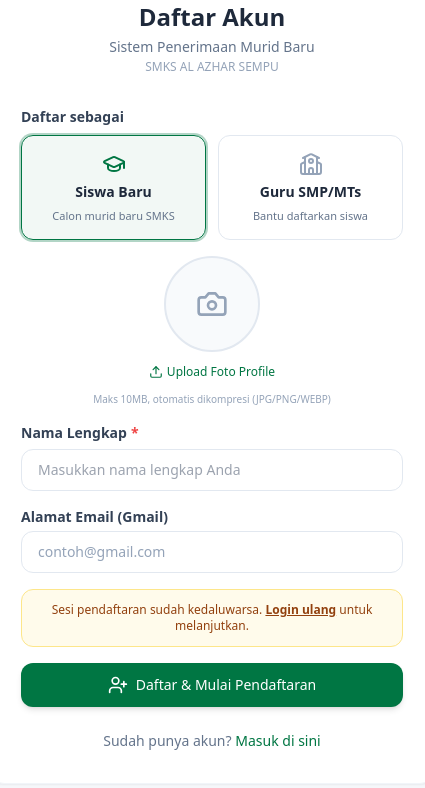
Scenario: RegisterPage - status sesi › menampilkan banner kedaluwarsa dan memblokir submit
(page scrolled)
Check: the text "sudah kedaluwarsa" is shown, box [52,601,262,618]
Click the button "Daftar & Mulai Pendaftaran": (212, 685) [21,663,403,707]
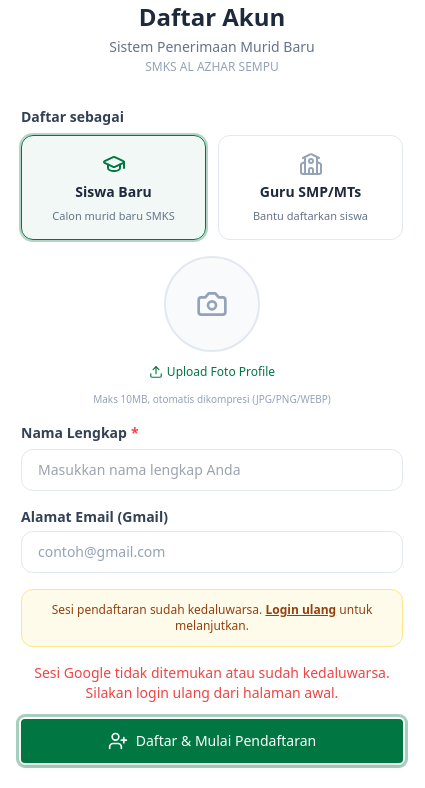
Check: the text "tidak ditemukan atau sudah kedaluwarsa" is shown, box [34,663,390,702]
